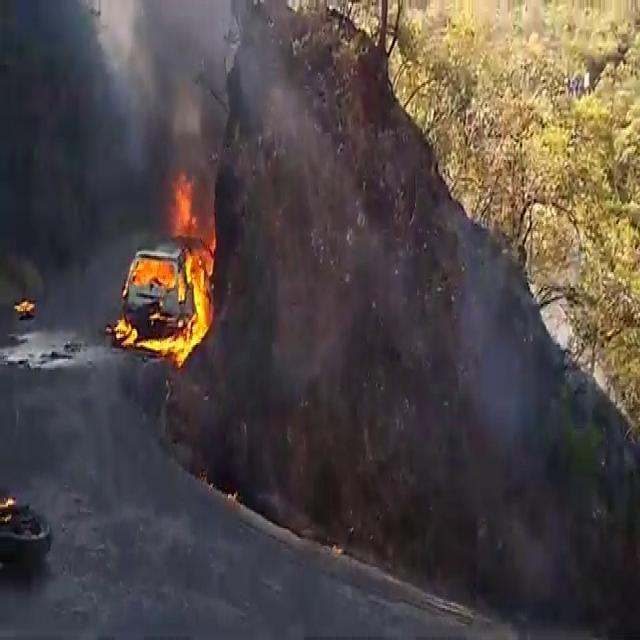Fire: (109, 234, 212, 366), (165, 169, 214, 243), (0, 494, 17, 526), (13, 298, 36, 318)
Smoke: (13, 2, 224, 162)
